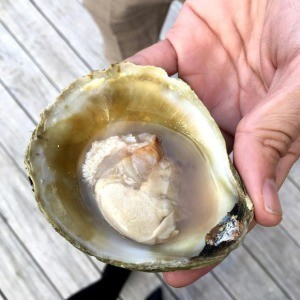oyster_brain food: (66, 73, 203, 259)
